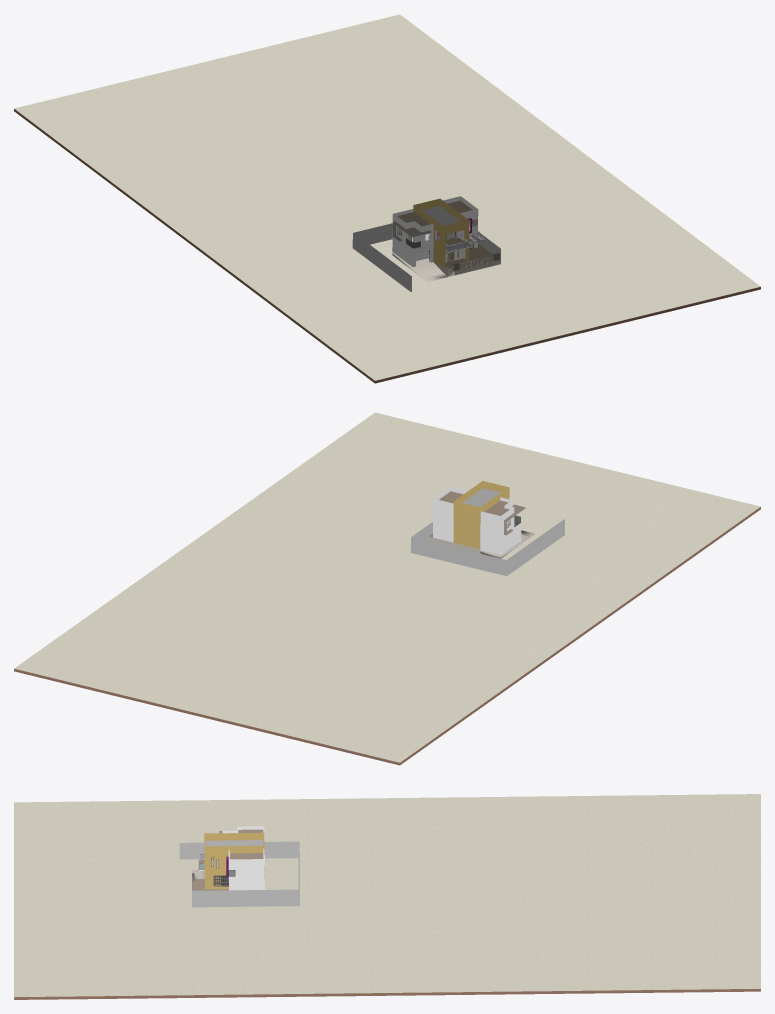
Rendered from europ.glb.
The picture shows the model from 3 angles, top to bottom: view 1: azimuth 30°, elevation 25°; view 2: azimuth 150°, elevation 25°; view 3: azimuth 270°, elevation 25°; orthographic projection. The views are drawn at different scales.
Parts seen in each view (by area): view 1: PRODUITEUROPALUMODIF25102023; view 2: PRODUITEUROPALUMODIF25102023; view 3: PRODUITEUROPALUMODIF25102023.
Part boxes in pixels (<box>): PRODUITEUROPALUMODIF25102023: <box>14,14,760,383</box>; PRODUITEUROPALUMODIF25102023: <box>14,412,760,765</box>; PRODUITEUROPALUMODIF25102023: <box>14,794,760,999</box>.
Bounding box in the file's own units: 37.38 × 4.73 × 60.57.
Materials: 46 (11 with a texture image).
